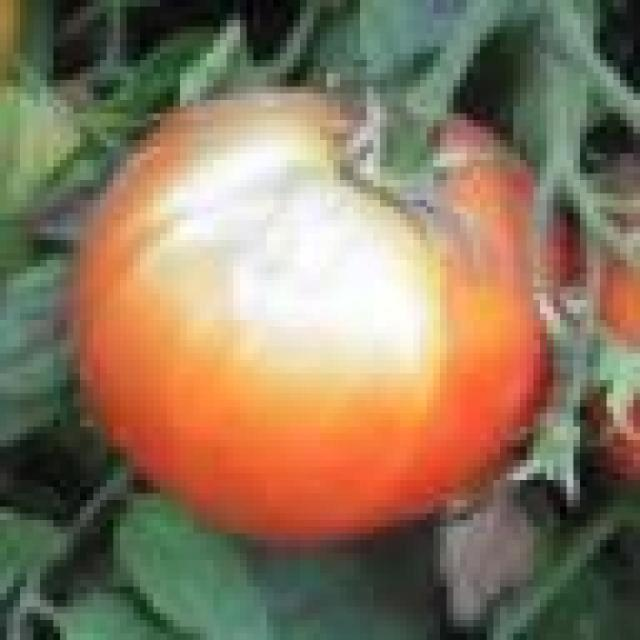Sunscald Fruit: (78, 69, 300, 278)
